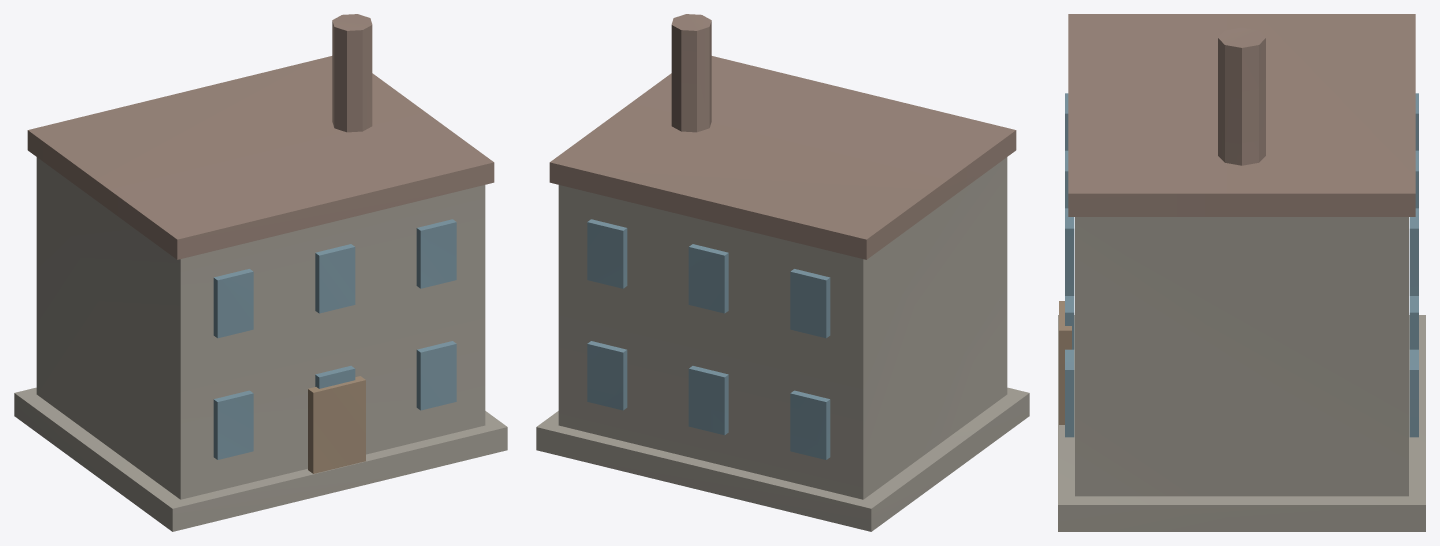
The model's file is factory-00.glb.
3 views of the same model, side by side, from view 1: azimuth 30°, elevation 25°; view 2: azimuth 150°, elevation 25°; view 3: azimuth 270°, elevation 25° (orthographic). The views are drawn at different scales.
Parts seen in each view (by area): view 1: world; view 2: world; view 3: world.
Part boxes in pixels (x1,y1,x2,y2): world: (14,14,507,531); world: (536,14,1029,531); world: (1058,14,1425,531).
Bounding box in the file's own units: 1.21 × 1.34 × 0.99.
